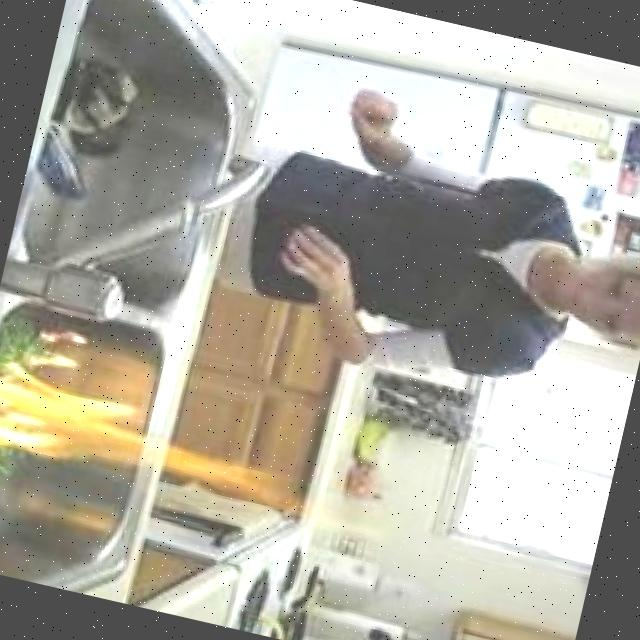fire: (0, 357, 322, 522), (14, 311, 92, 381)
